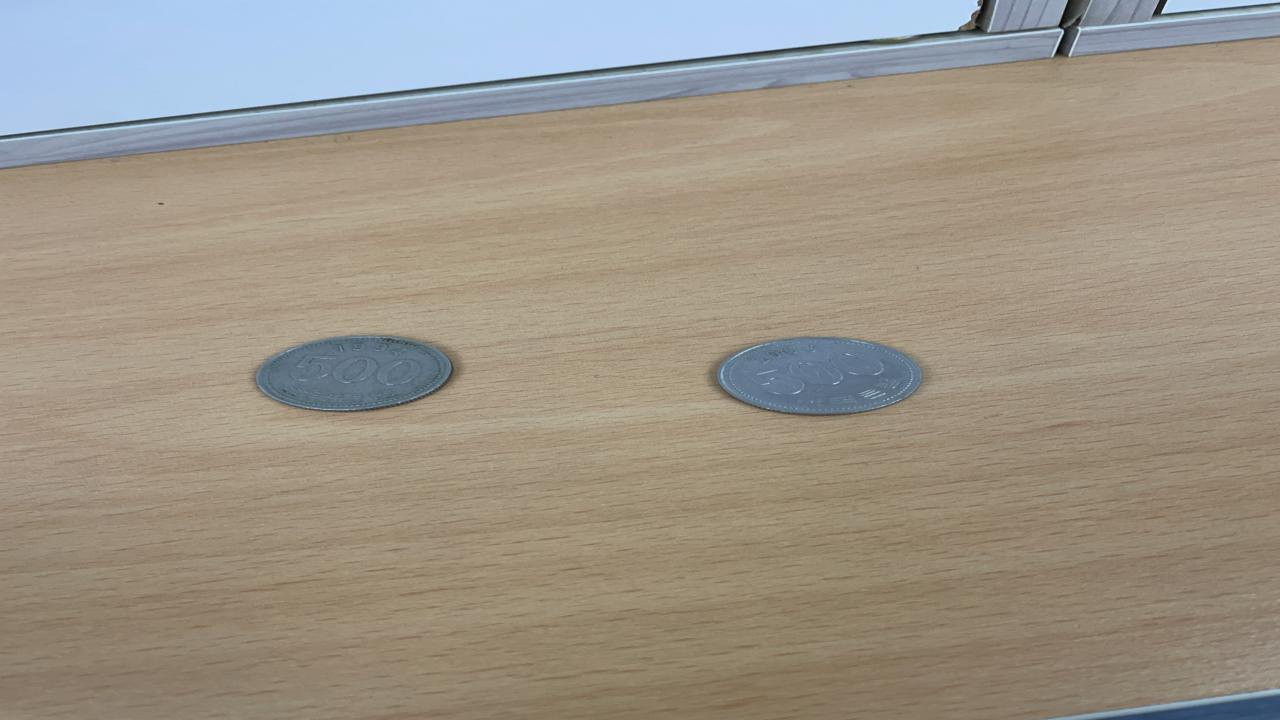coin: (711, 335, 928, 417), (249, 332, 459, 413)
